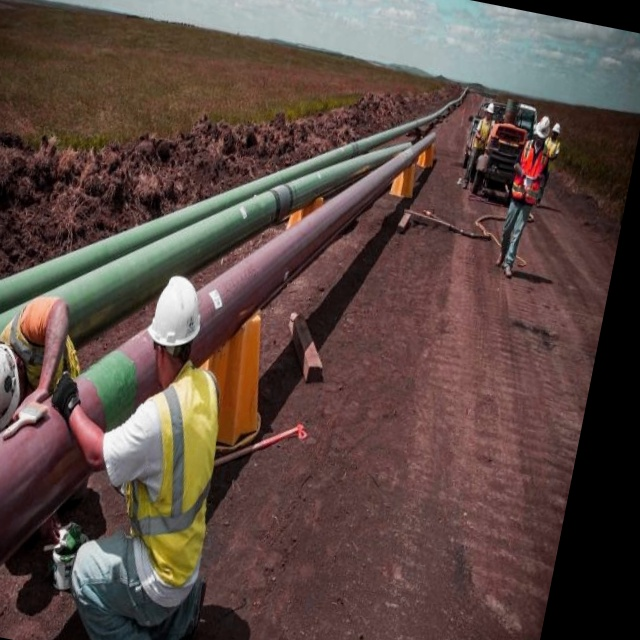Con_Casco: (142, 272, 209, 378), (0, 339, 29, 432), (533, 113, 553, 143)
Con_Chaleco: (113, 370, 235, 594), (511, 139, 553, 206)
